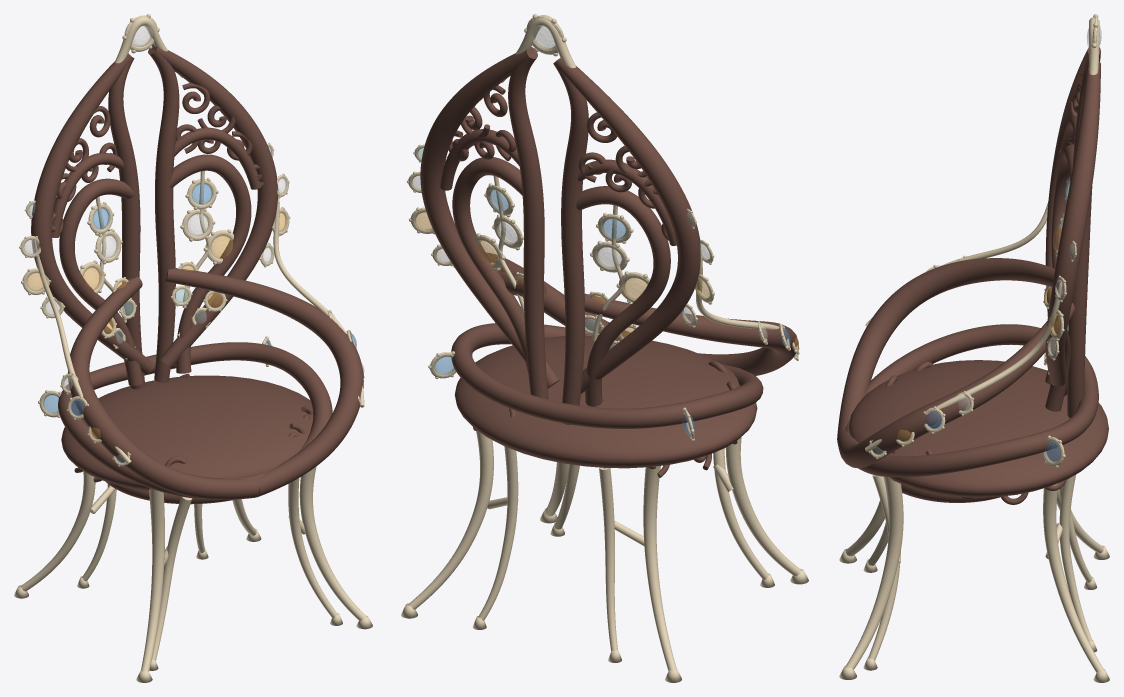
3 views of the same model, side by side, from view 1: azimuth 30°, elevation 25°; view 2: azimuth 150°, elevation 25°; view 3: azimuth 270°, elevation 25° (orthographic). The views are drawn at different scales.
Parts seen in each view (by area): view 1: Seat_Polished_Pan, Sweeping_Armrest_Right, Sweeping_Armrest_Left, Backrest_Outer_Wing_Left, Seat_Upper_Rim, Backrest_Outer_Wing_Right, Backrest_Center_Spine_Right, Backrest_Center_Spine_Left, Backrest_Heart_Loop_Right, Backrest_Heart_Loop_Left, Front_Leg_Primary_Left, Front_Leg_Primary_Right (+11 smaller); view 2: Seat_Polished_Pan, Seat_Upper_Rim, Backrest_Outer_Wing_Left, Backrest_Outer_Wing_Right, Backrest_Center_Spine_Right, Backrest_Center_Spine_Left, Backrest_Heart_Loop_Left, Sweeping_Armrest_Left, Backrest_Heart_Loop_Right, Rear_Leg_Primary_Left, Rear_Leg_Primary_Right, Front_Leg_Primary_Left (+11 smaller); view 3: Seat_Polished_Pan, Seat_Upper_Rim, Sweeping_Armrest_Left, Backrest_Outer_Wing_Right, Sweeping_Armrest_Right, Backrest_Center_Spine_Right, Front_Leg_Primary_Right, Rear_Leg_Primary_Right, Rear_Leg_Secondary_Right, Backrest_Outer_Wing_Left, Backrest_Heart_Loop_Left, Gold_Arm_Vine_Right (+9 smaller).
Boxes of the visible parts, x1,y1,x2,y2 form: Seat_Polished_Pan: [61, 375, 313, 490]; Sweeping_Armrest_Right: [165, 268, 363, 497]; Sweeping_Armrest_Left: [67, 277, 259, 499]; Backrest_Outer_Wing_Left: [31, 53, 153, 374]; Seat_Upper_Rim: [58, 342, 332, 499]; Backrest_Outer_Wing_Right: [152, 44, 278, 368]; Backrest_Center_Spine_Right: [148, 49, 179, 382]; Backrest_Center_Spine_Left: [108, 57, 145, 389]; Backrest_Heart_Loop_Right: [169, 154, 251, 373]; Backrest_Heart_Loop_Left: [59, 178, 143, 385]; Front_Leg_Primary_Left: [141, 488, 164, 671]; Front_Leg_Primary_Right: [299, 466, 366, 620]; Seat_Polished_Pan: [454, 335, 757, 468]; Seat_Upper_Rim: [451, 323, 763, 428]; Backrest_Outer_Wing_Left: [555, 58, 700, 393]; Backrest_Outer_Wing_Right: [420, 47, 559, 388]; Backrest_Center_Spine_Right: [508, 50, 548, 417]; Backrest_Center_Spine_Left: [553, 59, 588, 424]; Backrest_Heart_Loop_Left: [576, 186, 670, 406]; Sweeping_Armrest_Left: [584, 293, 798, 375]; Backrest_Heart_Loop_Right: [452, 157, 528, 372]; Rear_Leg_Primary_Left: [643, 466, 676, 670]; Rear_Leg_Primary_Right: [408, 431, 493, 609]; Front_Leg_Primary_Left: [725, 437, 801, 575]; Seat_Polished_Pan: [849, 360, 1108, 497]; Seat_Upper_Rim: [845, 324, 1098, 477]; Sweeping_Armrest_Left: [837, 258, 1054, 438]; Backrest_Outer_Wing_Right: [1045, 61, 1100, 396]; Sweeping_Armrest_Right: [837, 303, 1075, 468]; Backrest_Center_Spine_Right: [1067, 64, 1092, 417]; Front_Leg_Primary_Right: [845, 476, 903, 669]; Rear_Leg_Primary_Right: [1043, 483, 1103, 672]; Rear_Leg_Secondary_Right: [1059, 474, 1092, 641]; Backrest_Outer_Wing_Left: [1045, 47, 1100, 316]; Backrest_Heart_Loop_Left: [1045, 144, 1074, 384]; Gold_Arm_Vine_Right: [865, 281, 1061, 451].
Size of the model in its own units: 0.5437 by 0.9997 by 0.4116.
